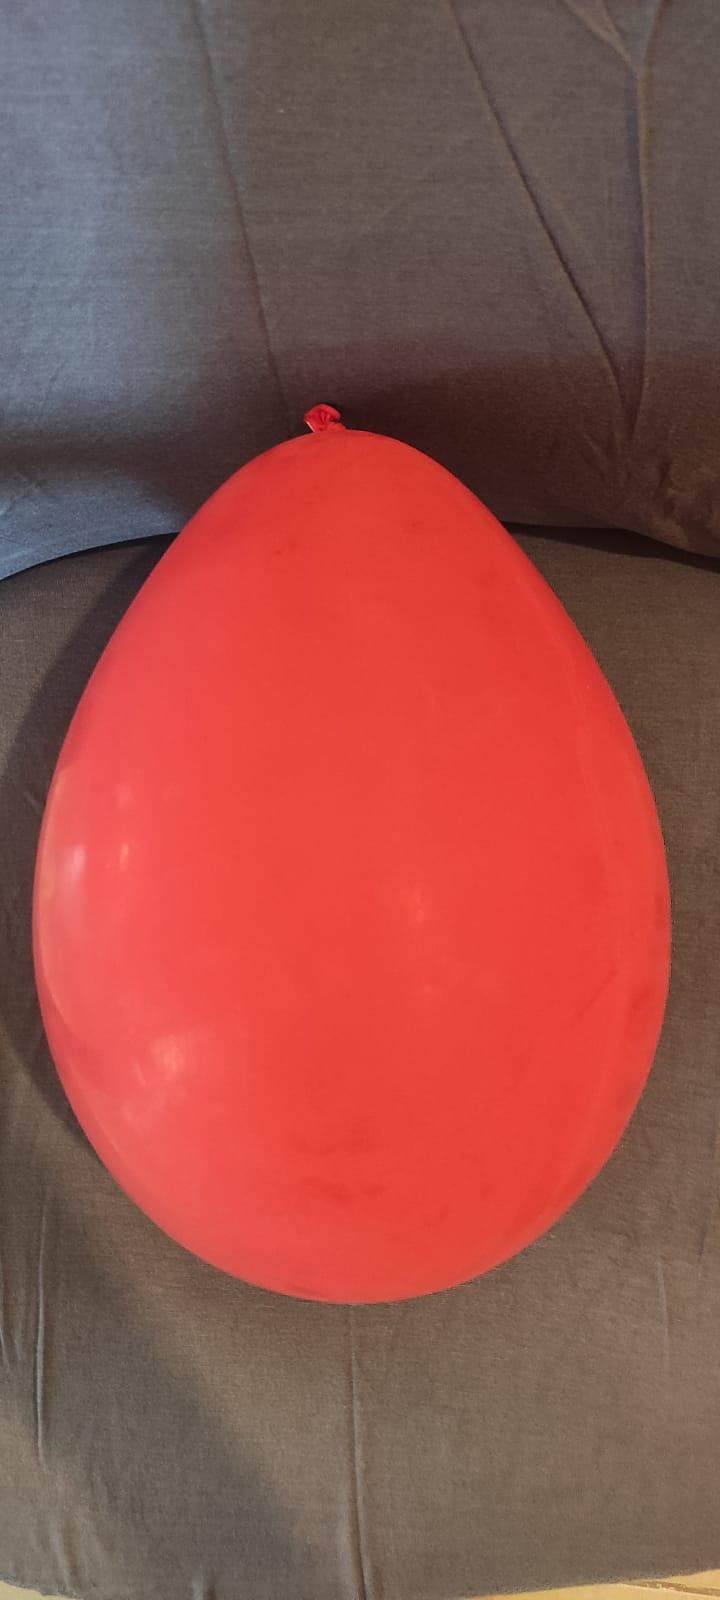red: (24, 401, 675, 1305)
